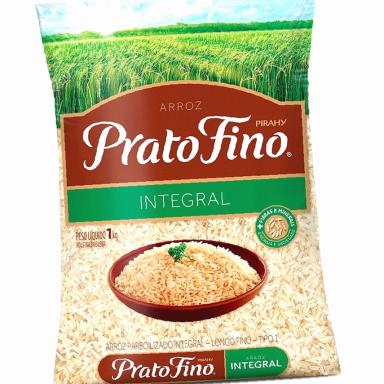rice package: (37, 0, 339, 383)
